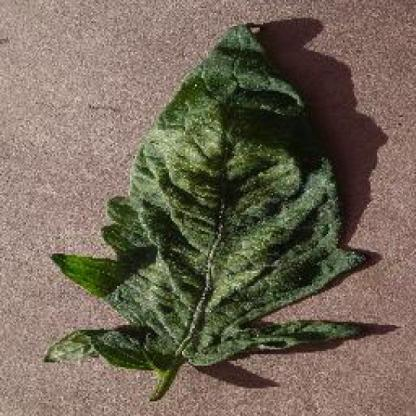Tomato_Spider_Mites: (54, 26, 365, 367)
